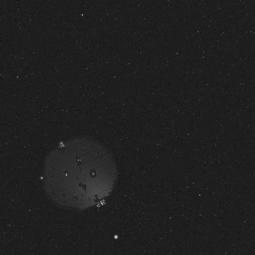lisa_pathfinder: (33, 124, 131, 230)
